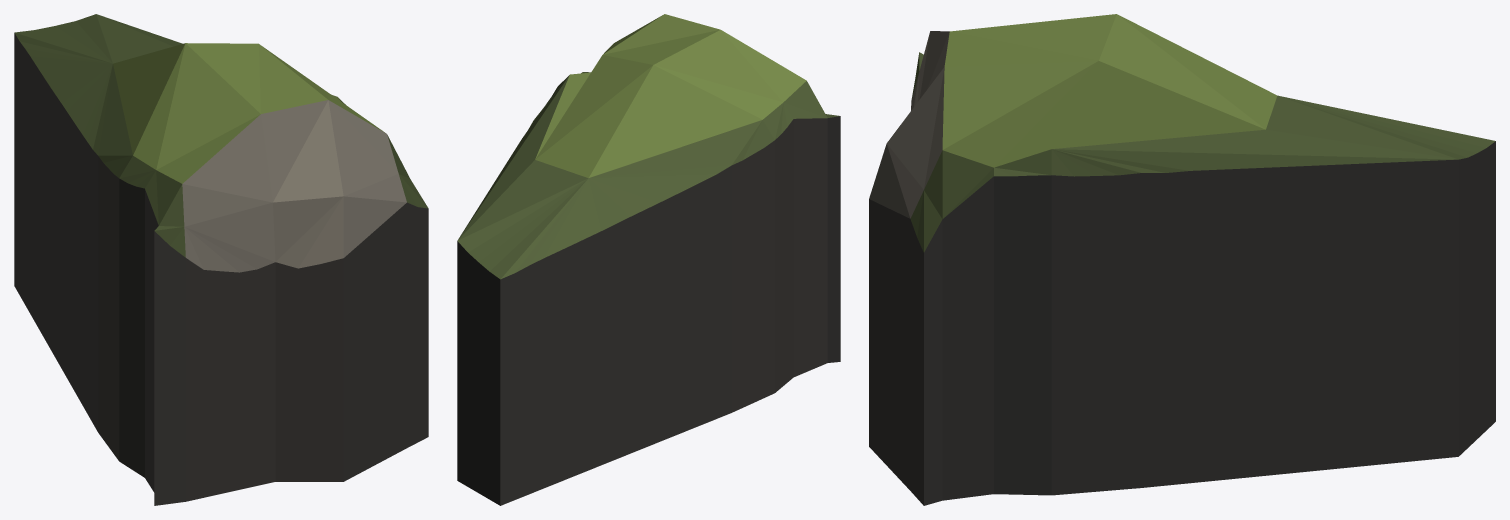
Rendered from cliff_sections_10d_prototype.glb.
3 renders of one model, left to right at view 1: azimuth 30°, elevation 25°; view 2: azimuth 150°, elevation 25°; view 3: azimuth 270°, elevation 25°, orthographic. The views are drawn at different scales.
Visible parts, largest first — view 1: Front columns study; view 2: Front columns study; view 3: Front columns study.
Part boxes in pixels (bbox=[...]): Front columns study: bbox=[14, 14, 428, 505]; Front columns study: bbox=[457, 14, 840, 505]; Front columns study: bbox=[869, 14, 1495, 505].
Size of the model in its own units: 54.99 by 70 by 97.56.
